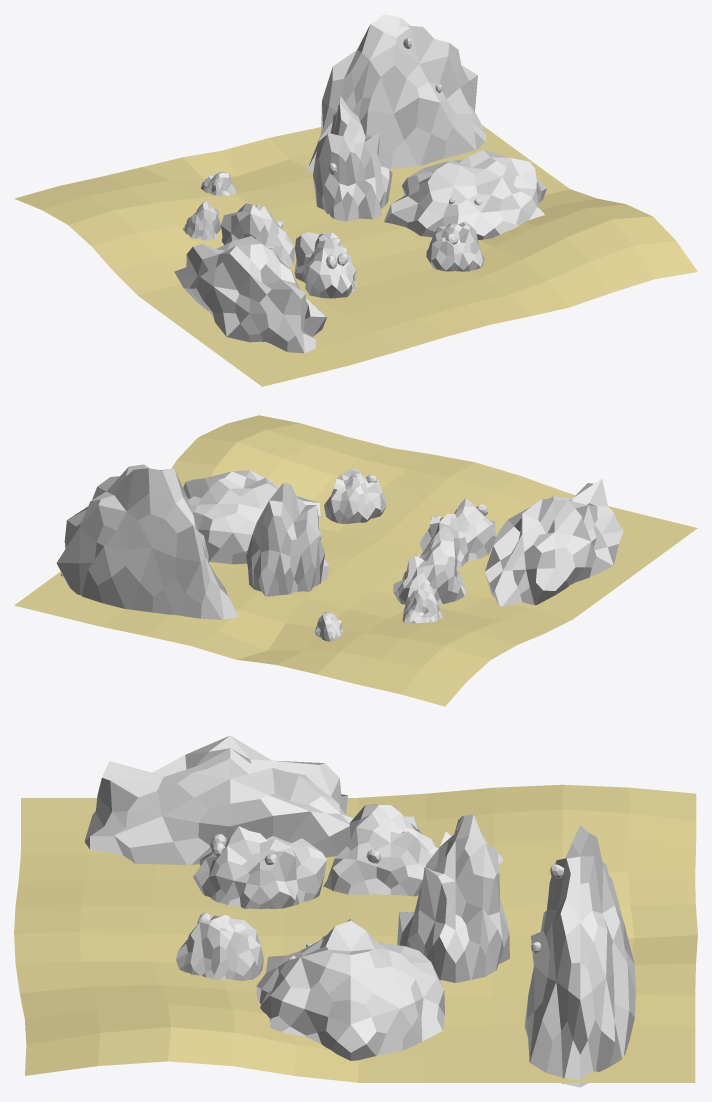
The model's file is Coral_v2.fbx.
The picture shows the model from 3 angles, top to bottom: view 1: azimuth 30°, elevation 25°; view 2: azimuth 150°, elevation 25°; view 3: azimuth 270°, elevation 25°; orthographic projection. The views are drawn at different scales.
Parts seen in each view (by area): view 1: Grid, Icosphere.007, Icosphere.006, Icosphere.004, Icosphere.002, Icosphere.005, Icosphere.001, Icosphere, Icosphere.003, Icosphere.008; view 2: Grid, Icosphere.007, Icosphere.006, Icosphere.002, Icosphere.004, Icosphere.001, Icosphere.005, Icosphere, Icosphere.003, Icosphere.008; view 3: Grid, Icosphere.006, Icosphere.007, Icosphere.004, Icosphere.002, Icosphere.005, Icosphere.001, Icosphere.
Part boxes in pixels (left/top/right/bottom): Grid: left=14, top=125, right=697, bottom=386; Icosphere.007: left=306, top=14, right=487, bottom=172; Icosphere.006: left=174, top=236, right=326, bottom=353; Icosphere.004: left=384, top=150, right=546, bottom=239; Icosphere.002: left=313, top=96, right=392, bottom=221; Icosphere.005: left=294, top=232, right=356, bottom=298; Icosphere.001: left=221, top=203, right=294, bottom=267; Icosphere: left=426, top=221, right=484, bottom=271; Icosphere.003: left=182, top=200, right=220, bottom=240; Icosphere.008: left=201, top=172, right=237, bottom=195; Grid: left=14, top=415, right=697, bottom=706; Icosphere.007: left=56, top=464, right=238, bottom=619; Icosphere.006: left=485, top=479, right=623, bottom=606; Icosphere.002: left=246, top=482, right=329, bottom=596; Icosphere.004: left=183, top=470, right=320, bottom=564; Icosphere.001: left=393, top=538, right=465, bottom=605; Icosphere.005: left=419, top=498, right=496, bottom=568; Icosphere: left=324, top=468, right=386, bottom=523; Icosphere.003: left=402, top=582, right=442, bottom=623; Icosphere.008: left=315, top=612, right=343, bottom=641; Grid: left=14, top=784, right=697, bottom=1082; Icosphere.006: left=84, top=735, right=353, bottom=864; Icosphere.007: left=524, top=825, right=635, bottom=1087; Icosphere.004: left=256, top=918, right=444, bottom=1060; Icosphere.002: left=397, top=814, right=509, bottom=982; Icosphere.005: left=193, top=826, right=326, bottom=909; Icosphere.001: left=323, top=804, right=438, bottom=896; Icosphere: left=176, top=915, right=263, bottom=980.
Bounding box in the file's own units: 22.92 × 6.95 × 22.62.
